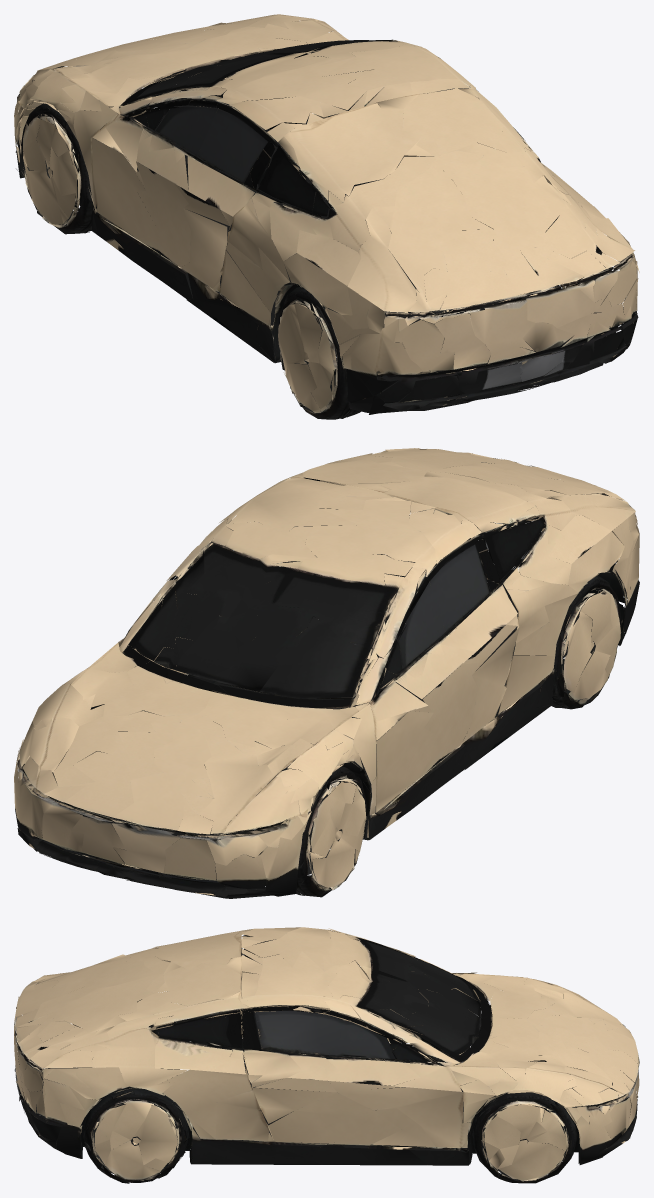
File: cybercab-meshy-traffic.glb
The picture shows the model from 3 angles, top to bottom: view 1: azimuth 30°, elevation 25°; view 2: azimuth 150°, elevation 25°; view 3: azimuth 270°, elevation 25°; orthographic projection. The views are drawn at different scales.
Parts seen in each view (by area): view 1: Meshy_Cybercab_ClosedDoors; view 2: Meshy_Cybercab_ClosedDoors; view 3: Meshy_Cybercab_ClosedDoors.
Boxes of the visible parts, x1,y1,x2,y2 form: Meshy_Cybercab_ClosedDoors: [14, 14, 639, 419]; Meshy_Cybercab_ClosedDoors: [14, 448, 639, 898]; Meshy_Cybercab_ClosedDoors: [14, 927, 639, 1183].
Bounding box in the file's own units: 1.86 × 1.38 × 4.45.
1 material, 1 textured.
